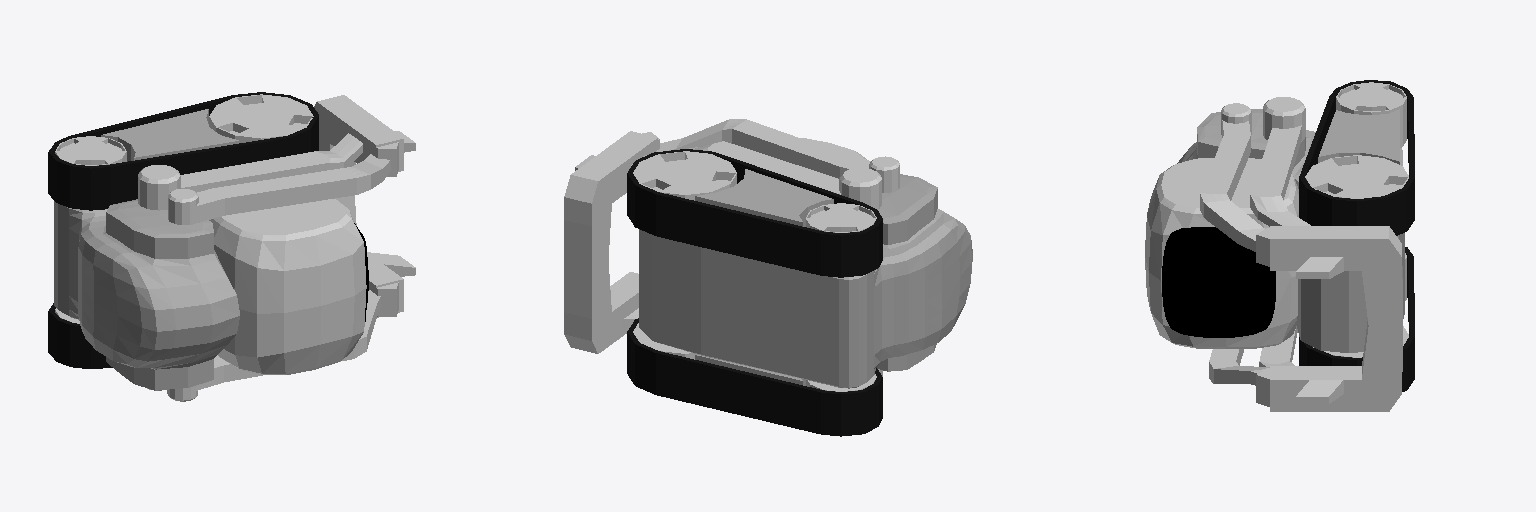
File: cozmo.obj
3 views of the same model, side by side, from view 1: azimuth 30°, elevation 25°; view 2: azimuth 150°, elevation 25°; view 3: azimuth 270°, elevation 25° (orthographic).
Visible parts, largest first — view 1: body_geo, head_geo, tracks_L_geo, uprArm_L_geo, fork_geo, lwrArm_L_geo, wheel_FL_geo, trackBase_L_geo, tracks_R_geo, uprArm_geo, wheel_BL_geo; view 2: body_geo, tracks_L_geo, fork_geo, tracks_R_geo, uprArm_L_geo, trackBase_L_geo, wheel_FL_geo, lwrArm_L_geo, wheel_BL_geo, trackBase_R_geo; view 3: fork_geo, front_Screen_geo, head_geo, body_geo, tracks_L_geo, uprArm_L_geo, lwrArm_L_geo, wheel_FL_geo, trackBase_L_geo, wheel_BL_geo, tracks_R_geo, uprArm_geo (+1 smaller).
Part boxes in pixels (bbox=[...]): body_geo: bbox=[54, 199, 239, 390]; head_geo: bbox=[209, 198, 366, 374]; tracks_L_geo: bbox=[48, 92, 318, 210]; uprArm_L_geo: bbox=[168, 154, 390, 224]; fork_geo: bbox=[314, 95, 415, 317]; lwrArm_L_geo: bbox=[138, 133, 362, 210]; wheel_FL_geo: bbox=[209, 94, 313, 142]; trackBase_L_geo: bbox=[101, 109, 239, 161]; tracks_R_geo: bbox=[48, 303, 112, 368]; uprArm_geo: bbox=[167, 290, 380, 401]; wheel_BL_geo: bbox=[55, 136, 126, 165]; body_geo: bbox=[639, 174, 972, 388]; tracks_L_geo: bbox=[627, 149, 882, 277]; fork_geo: bbox=[564, 131, 659, 353]; tracks_R_geo: bbox=[627, 318, 882, 436]; uprArm_L_geo: bbox=[656, 119, 899, 192]; trackBase_L_geo: bbox=[695, 169, 833, 226]; wheel_FL_geo: bbox=[633, 151, 736, 200]; lwrArm_L_geo: bbox=[630, 141, 881, 209]; wheel_BL_geo: bbox=[806, 203, 876, 232]; trackBase_R_geo: bbox=[695, 355, 805, 385]; fork_geo: bbox=[1256, 226, 1402, 411]; front_Screen_geo: bbox=[1162, 227, 1275, 337]; head_geo: bbox=[1145, 158, 1298, 348]; body_geo: bbox=[1177, 109, 1404, 352]; tracks_L_geo: bbox=[1299, 80, 1414, 235]; uprArm_L_geo: bbox=[1200, 103, 1264, 251]; lwrArm_L_geo: bbox=[1250, 97, 1310, 226]; wheel_FL_geo: bbox=[1305, 155, 1408, 198]; trackBase_L_geo: bbox=[1318, 109, 1399, 164]; wheel_BL_geo: bbox=[1336, 82, 1406, 147]; tracks_R_geo: bbox=[1299, 247, 1414, 391]; uprArm_geo: bbox=[1209, 349, 1269, 385].
Bounding box in the file's own units: 9.75 × 5.85 × 6.8.